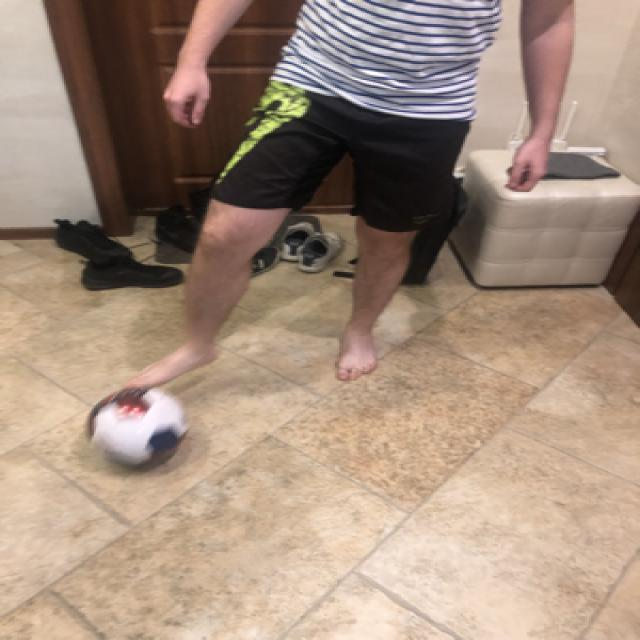soccer_ball: (81, 382, 184, 466)
